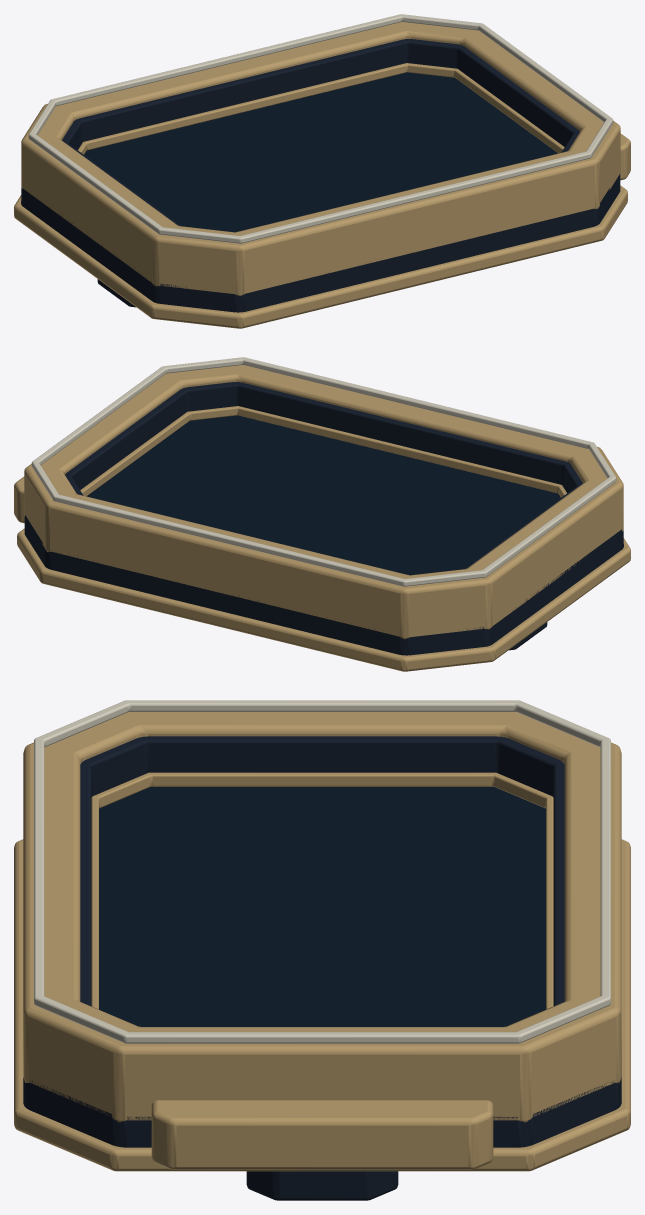
The model's file is mana-counter.glb.
3 views of the same model, one above another, from view 1: azimuth 30°, elevation 25°; view 2: azimuth 150°, elevation 25°; view 3: azimuth 270°, elevation 25° (orthographic). The views are drawn at different scales.
Visible parts, largest first — view 1: MANA_COUNTER_SURFACES; view 2: MANA_COUNTER_SURFACES; view 3: MANA_COUNTER_SURFACES.
Boxes of the visible parts, left/top/right/bottom form: MANA_COUNTER_SURFACES: left=14, top=14, right=630, bottom=328; MANA_COUNTER_SURFACES: left=14, top=357, right=630, bottom=671; MANA_COUNTER_SURFACES: left=14, top=700, right=630, bottom=1200.
Bounding box in the file's own units: 0.092 × 0.023 × 0.065.
